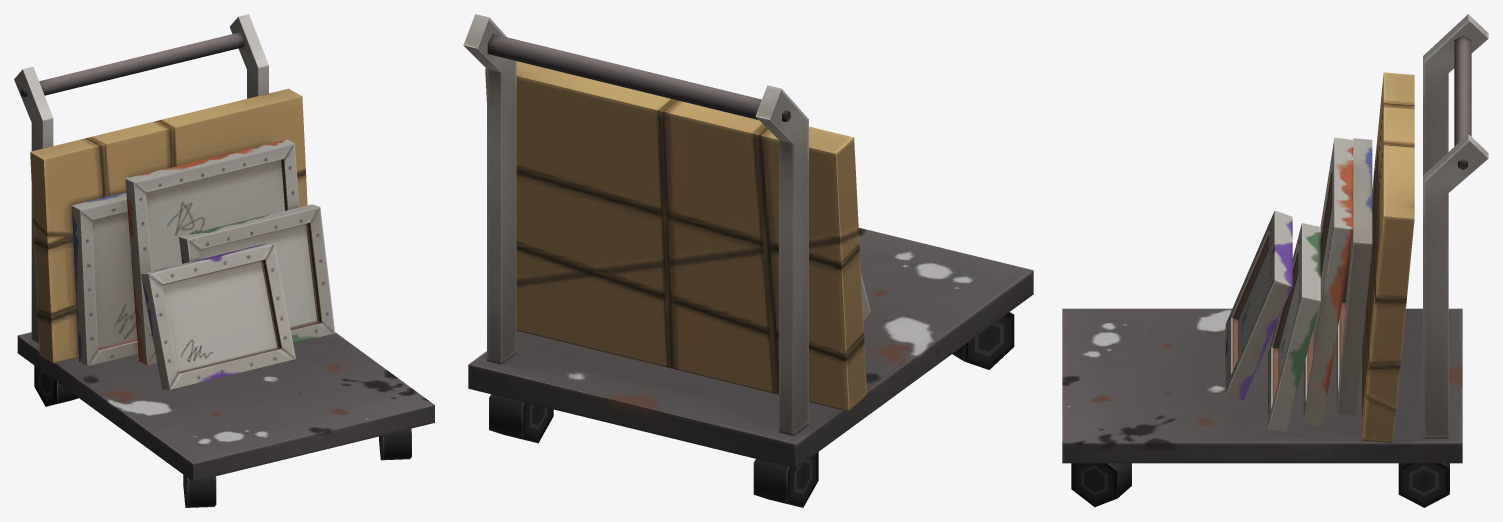
File: my_wildhunt_01_cart_01.glb
The picture shows the model from 3 angles, left to right: view 1: azimuth 30°, elevation 25°; view 2: azimuth 150°, elevation 25°; view 3: azimuth 270°, elevation 25°; orthographic projection. The views are drawn at different scales.
Parts seen in each view (by area): view 1: my_wildhunt_01_cart_01; view 2: my_wildhunt_01_cart_01; view 3: my_wildhunt_01_cart_01.
Part boxes in pixels (x1,y1,x2,y2): my_wildhunt_01_cart_01: (14, 14, 434, 507); my_wildhunt_01_cart_01: (463, 14, 1033, 507); my_wildhunt_01_cart_01: (1062, 14, 1488, 507).
Size of the model in its own units: 0.00455 by 0.00545 by 0.0057.
Materials: 1 (1 with a texture image).
